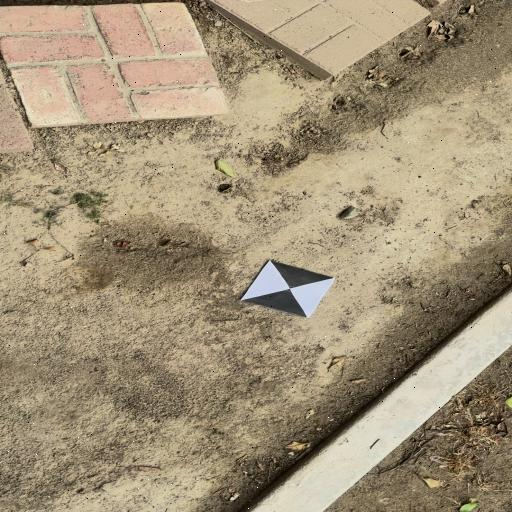target: (242, 260, 334, 317)
